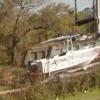Boat: (24, 34, 100, 81)
